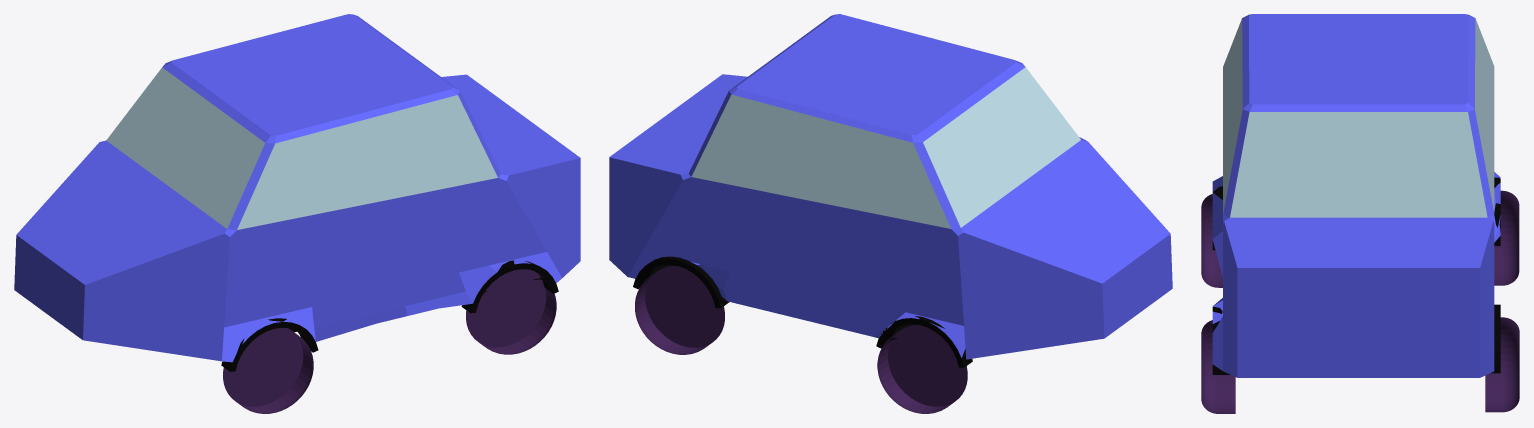
The model's file is Vehicle.glb.
3 renders of one model, left to right at view 1: azimuth 30°, elevation 25°; view 2: azimuth 150°, elevation 25°; view 3: azimuth 270°, elevation 25°, orthographic. The views are drawn at different scales.
Parts seen in each view (by area): view 1: Wheel.003; view 2: Wheel.003; view 3: Wheel.003.
Boxes of the visible parts, left/top/right/bottom form: Wheel.003: left=14, top=14, right=580, bottom=413; Wheel.003: left=609, top=14, right=1172, bottom=413; Wheel.003: left=1201, top=14, right=1519, bottom=413.
Bounding box in the file's own units: 10.53 × 5.6 × 5.74.
